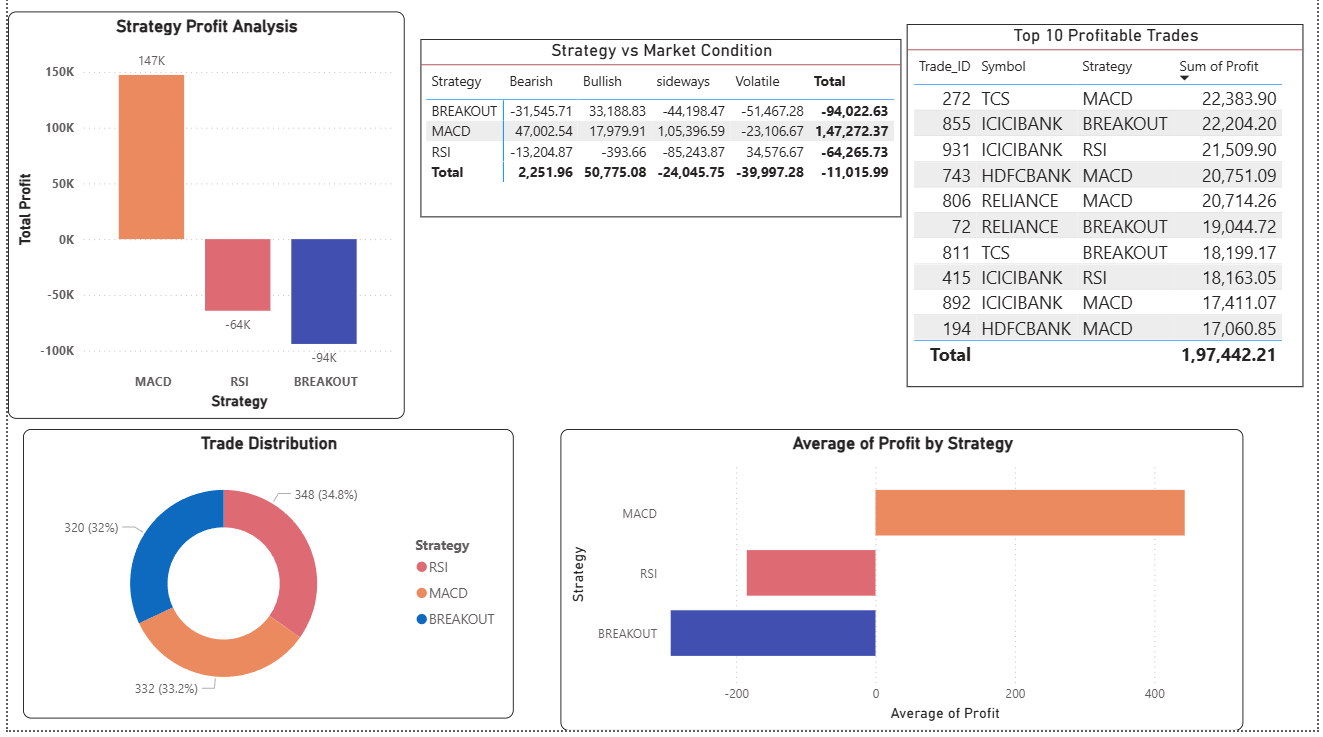

Layout of this report page (visuals, bound fields, positions):
{"tool":"powerbi","page":{"name":"Strategy & Performance Analytics","canvas":[1280,720],"ordinal":1},"visuals":[{"type":"clusteredColumnChart","title":"Strategy Profit Analysis","fields":{"Category":["trading_dataset_final.Strategy"],"Y":["trading_dataset_final.Total Profit"]},"box":[0,16.8,387.6,398.3],"z":0},{"type":"donutChart","title":" Trade Distribution","fields":{"Category":["trading_dataset_final.Strategy"],"Y":["CountNonNull(trading_dataset_final.Trade_ID)"]},"box":[15,425,480,283.3],"z":1000},{"type":"barChart","fields":{"Category":["trading_dataset_final.Strategy"],"Y":["Avg(trading_dataset_final.Profit)"]},"box":[540,425,668.3,295],"z":2000},{"type":"tableEx","title":"Top 10 Profitable Trades","fields":{"Values":["trading_dataset_final.Trade_ID","trading_dataset_final.Symbol","trading_dataset_final.Strategy","Sum(trading_dataset_final.Profit)"]},"box":[879.6,28.8,388.3,355.4],"z":3000},{"type":"pivotTable","title":"Strategy vs Market Condition","fields":{"Rows":["trading_dataset_final.Strategy"],"Columns":["trading_dataset_final.Market_Condition"],"Values":["trading_dataset_final.Total Profit"]},"box":[403.4,43.9,470.7,174.3],"z":4000}]}

Visuals, with their boxes in screenshot pixels (x1, y1, x2, y2), scaled from the page's 1280x720 canvas onto the 1323x737 screenshot:
"Strategy Profit Analysis" clusteredColumnChart: box=[0, 17, 401, 425]
" Trade Distribution" donutChart: box=[16, 435, 512, 725]
barChart - trading_dataset_final.Strategy x Avg(trading_dataset_final.Profit): box=[558, 435, 1249, 736]
"Top 10 Profitable Trades" tableEx: box=[909, 29, 1310, 393]
"Strategy vs Market Condition" pivotTable: box=[417, 45, 903, 223]
